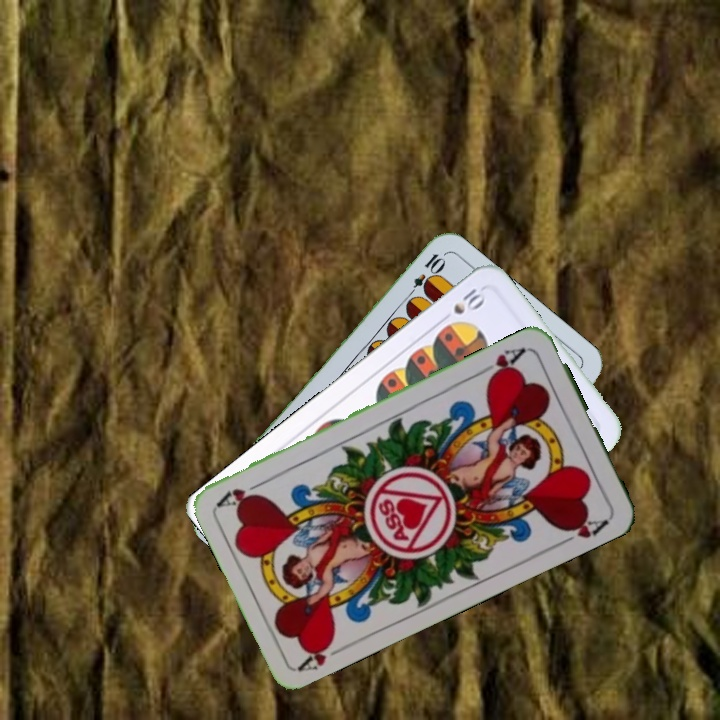E10: (402, 249, 447, 302)
HA: (294, 634, 351, 675), (475, 343, 529, 383)
S10: (436, 282, 489, 325)
